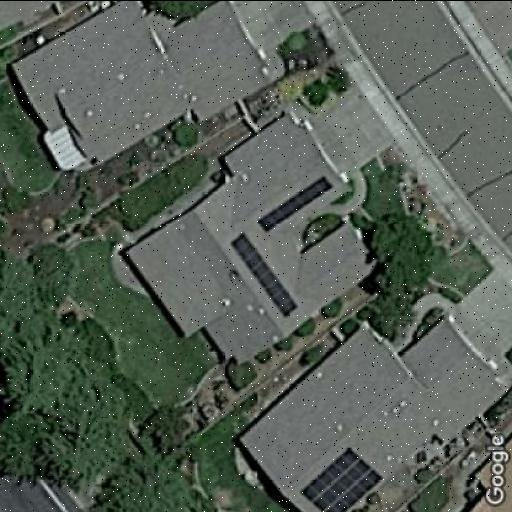solar-panel: (228, 231, 298, 319), (301, 448, 387, 510), (256, 173, 335, 232)
